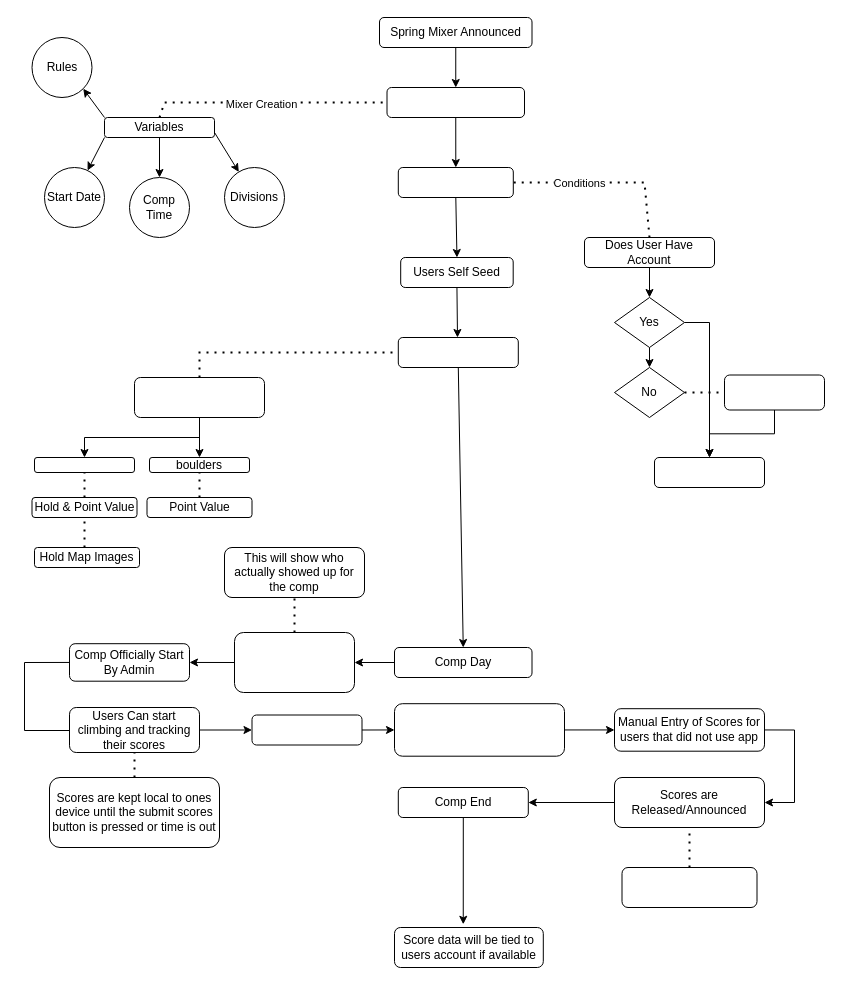
The diagram is 842 pixels wide and 985 high, and some of its shapes have lost their labels. The box of each missing label's shape, as (x1, y1, x2, y2) in pixels:
Comp Ends: (251, 714, 362, 745)
Hold data is entered into Mixer: (134, 376, 264, 418)
Ropes: (34, 456, 134, 472)
Routes are Set: (397, 336, 518, 368)
User Makes CT Account: (724, 374, 824, 410)
User Sign up enabled: (397, 166, 513, 198)
User Signs up for Comp: (654, 456, 764, 488)
Users Can "Ready Up" and sit in waiting room screen: (234, 632, 354, 692)
Users can now see score data: (621, 866, 757, 908)
Users sit in another waiting room waiting for scores to be announced: (394, 703, 564, 756)
Variables are Determined/Announced: (386, 86, 524, 118)
